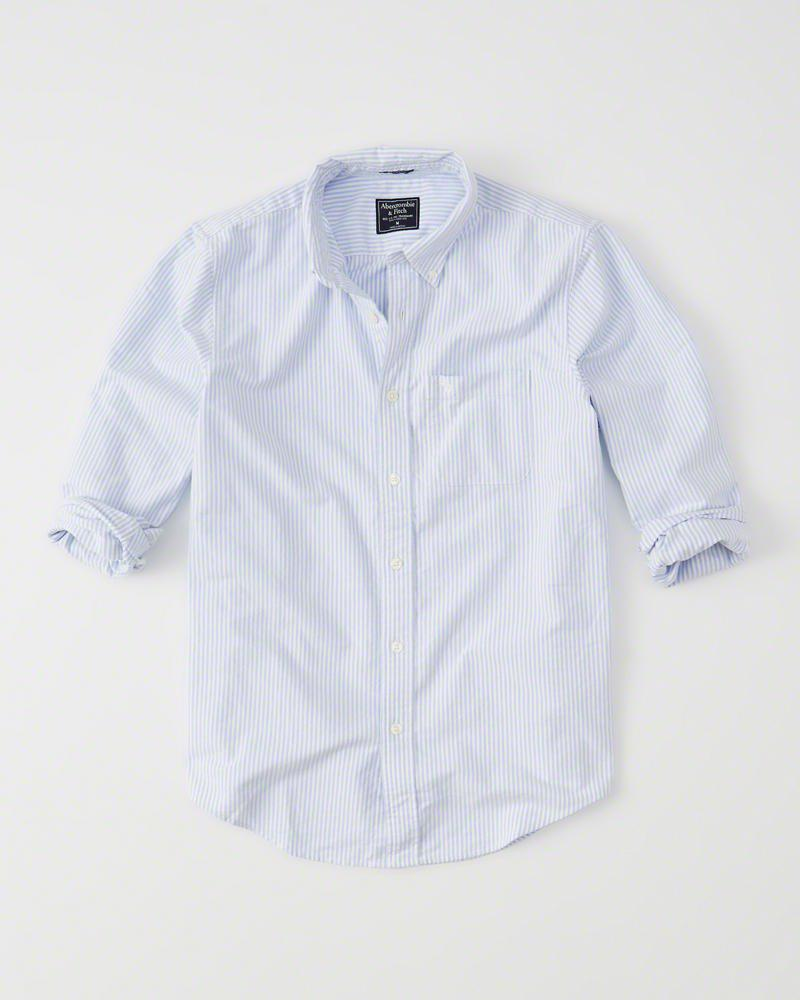teeshirt: (32, 133, 745, 857)
